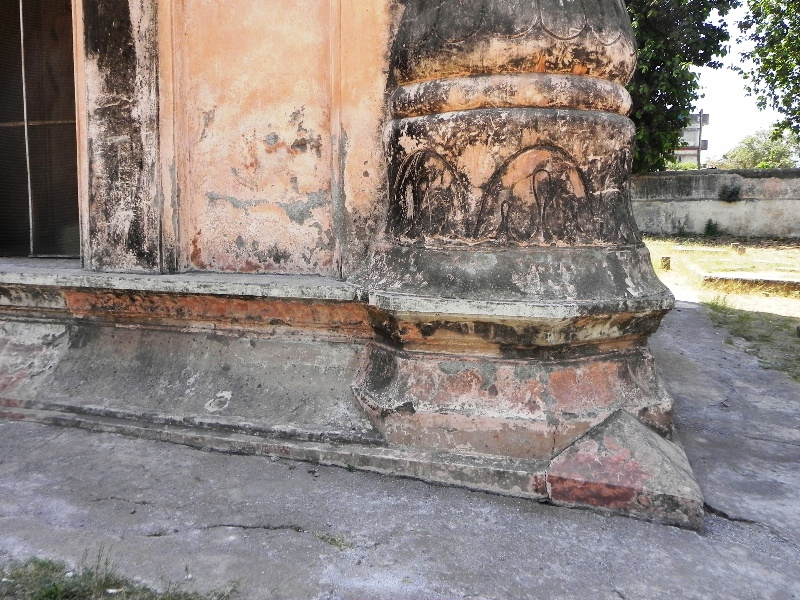Spalling: (286, 184, 324, 225)
